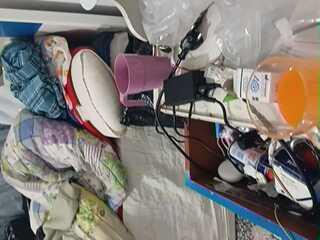cup: (247, 56, 319, 137), (114, 54, 171, 106)
